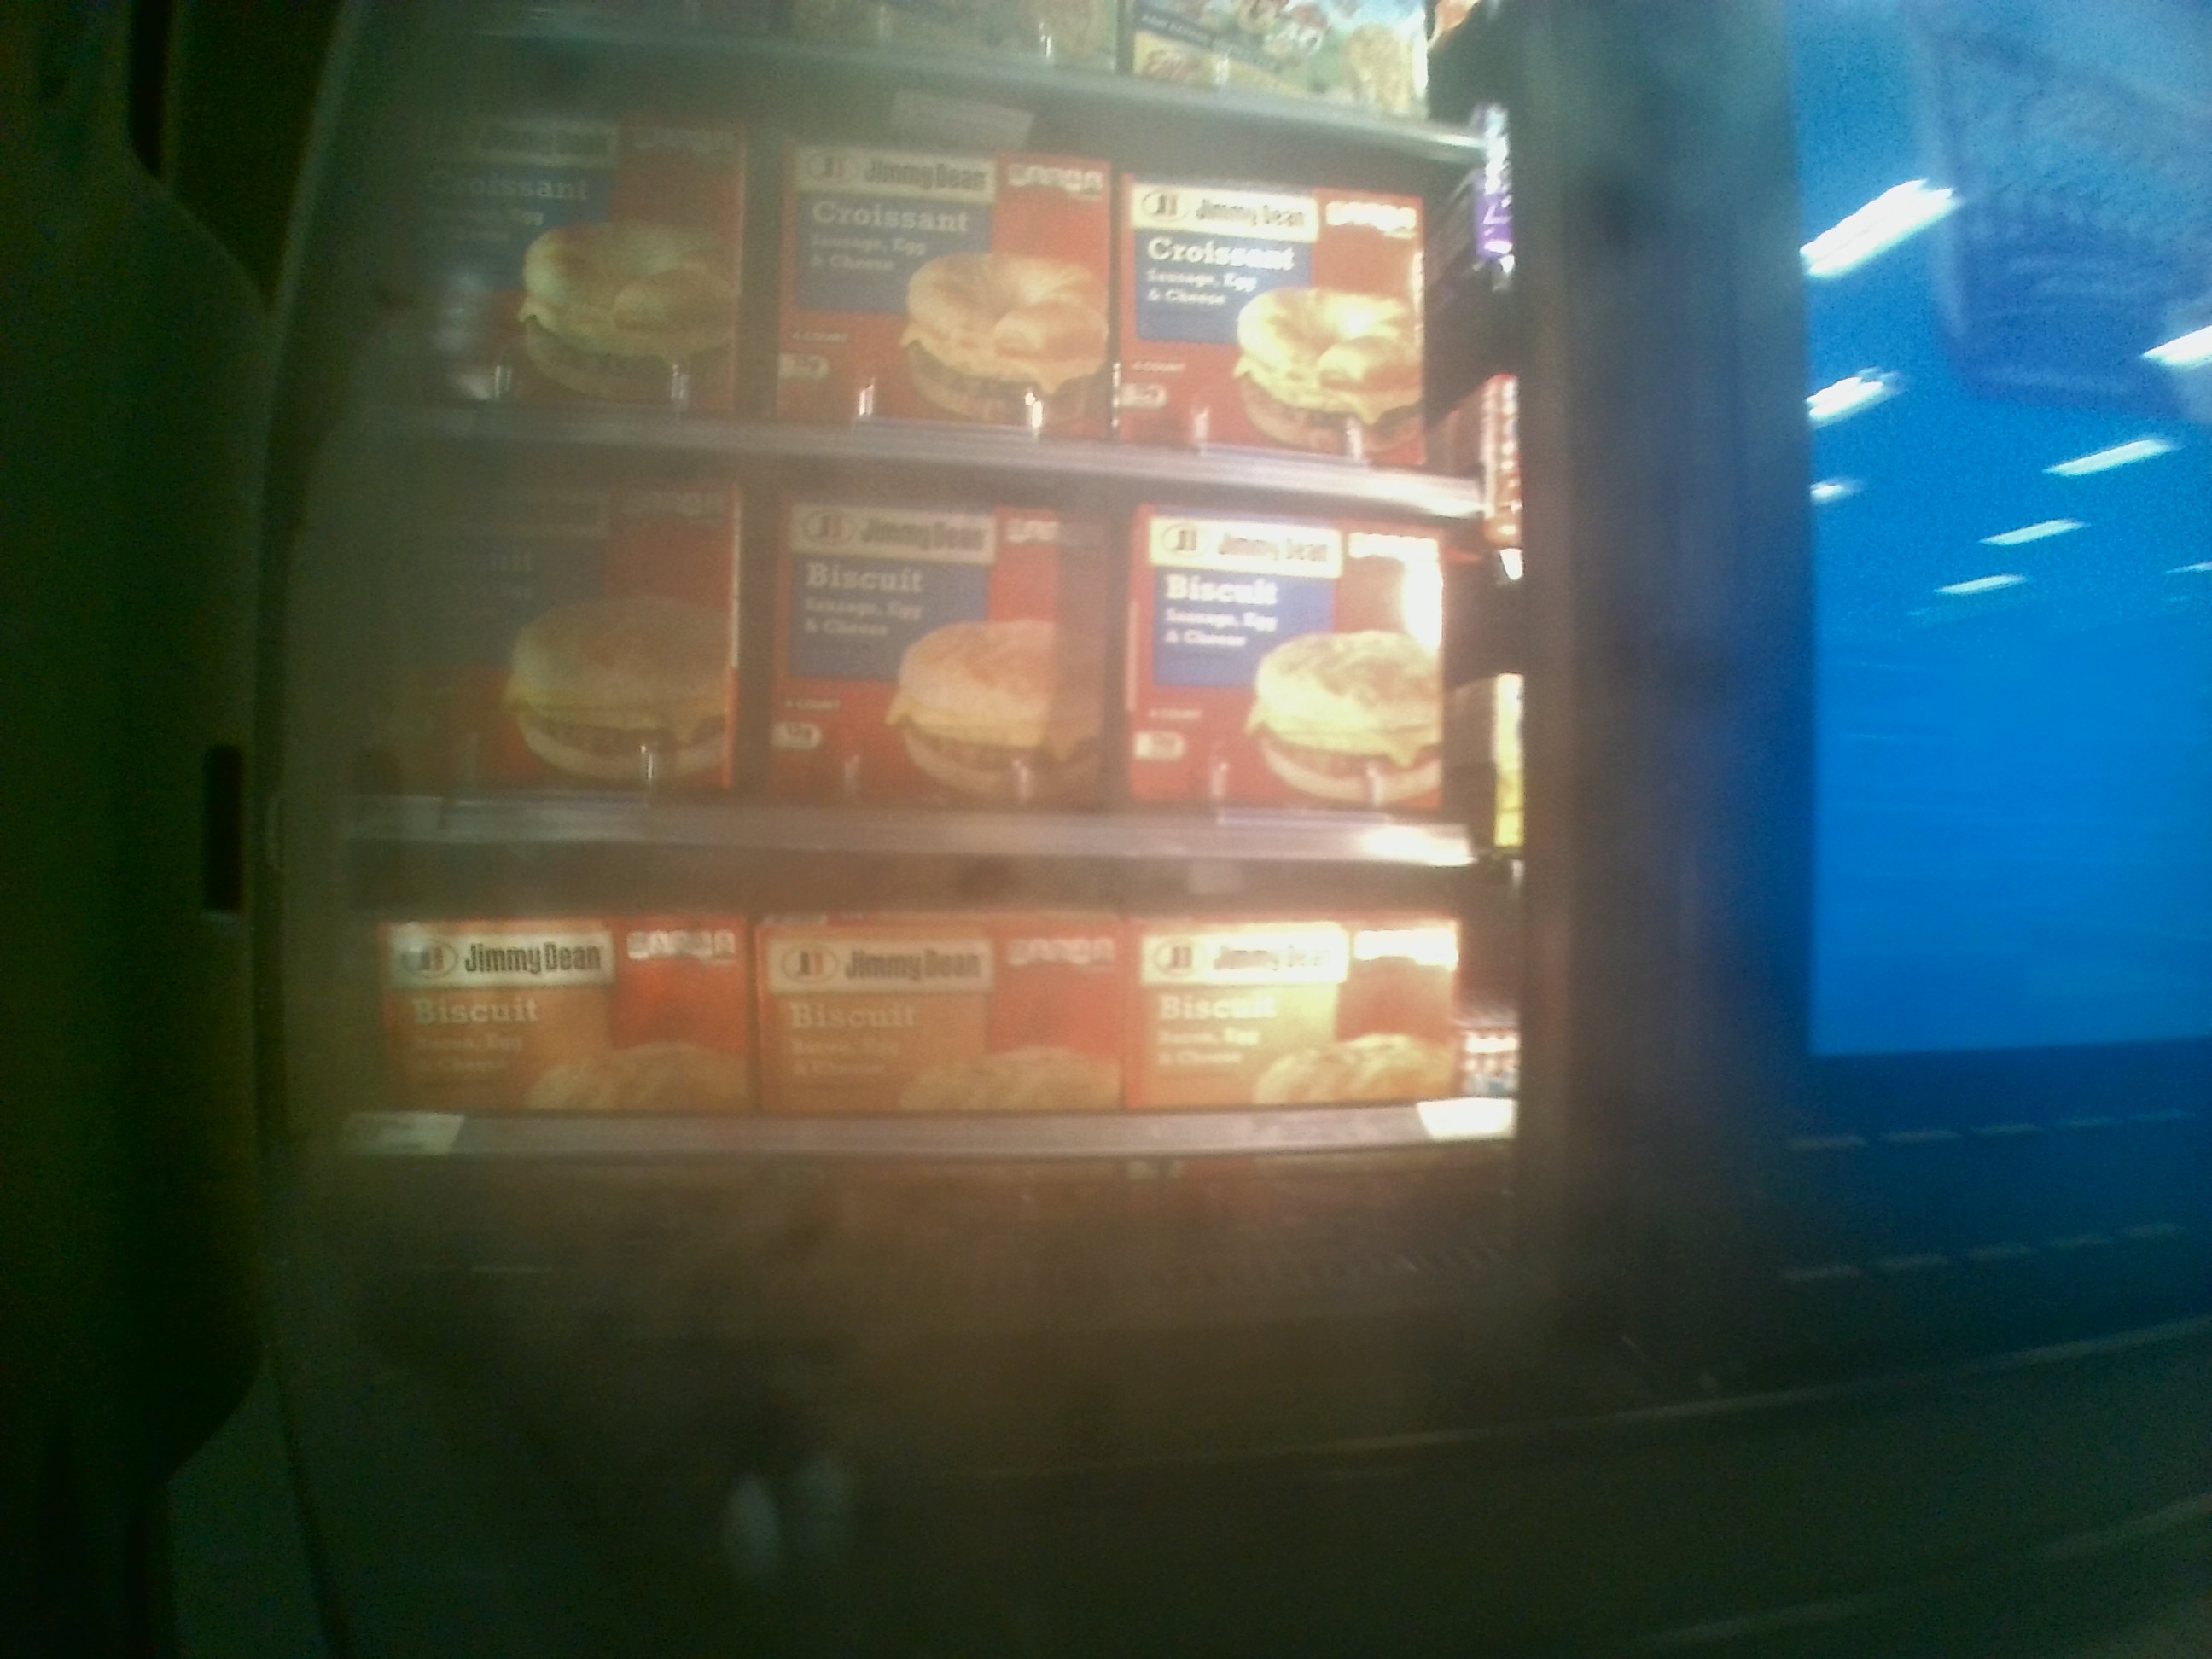shelf: (340, 425, 1503, 868), (340, 852, 1524, 1236)
